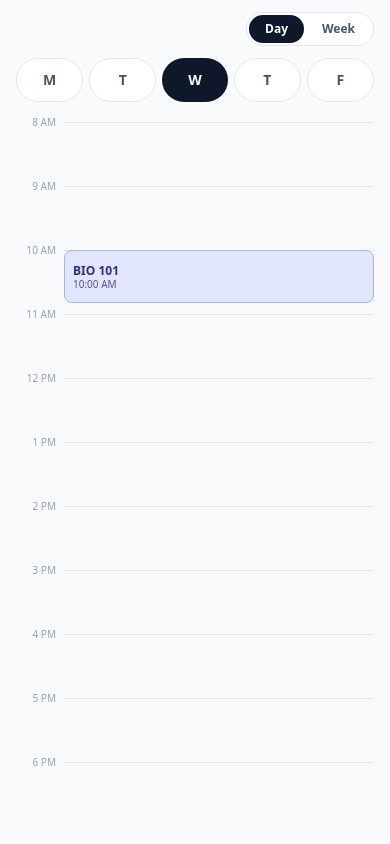
ScheduleGrid week view in edit mode › names blocks by day, so two meetings of one class are distinguishable
This screenshot has width=390, height=844.
Click the button "Week". click: (338, 29)
box: [306,15,371,43]
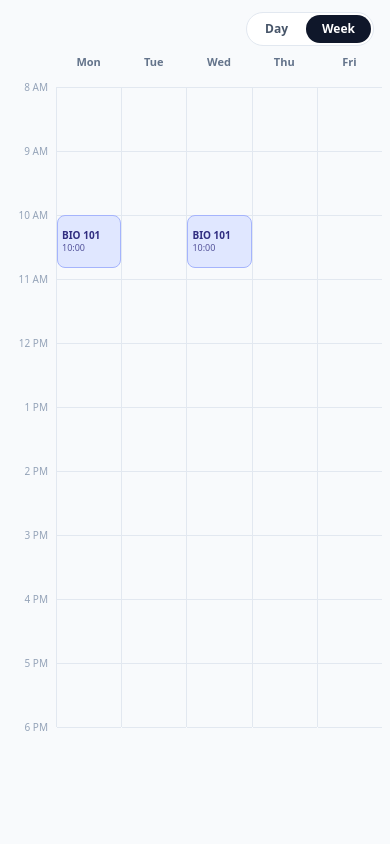
expect the button with aria-label "Edit BIO 101, Mon" is shown: met, box [57,214,121,268]
expect the button with aria-label "Edit BIO 101, Wed" is shown: met, box [187,214,252,268]
